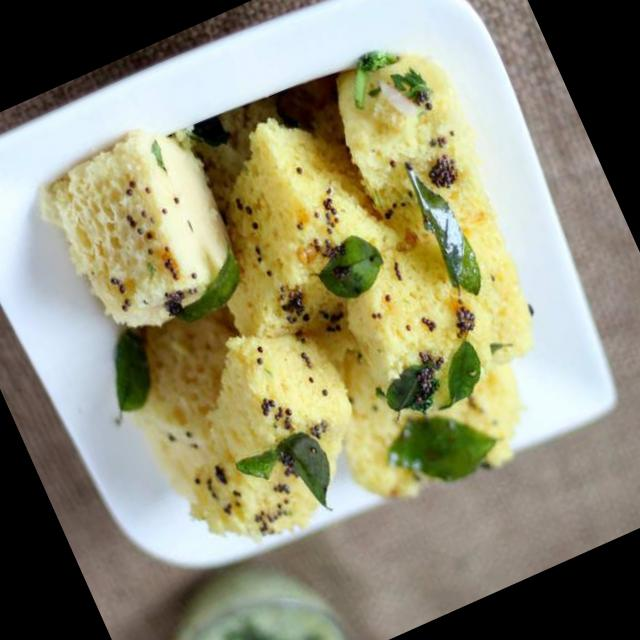dhokla: (14, 5, 606, 588)
